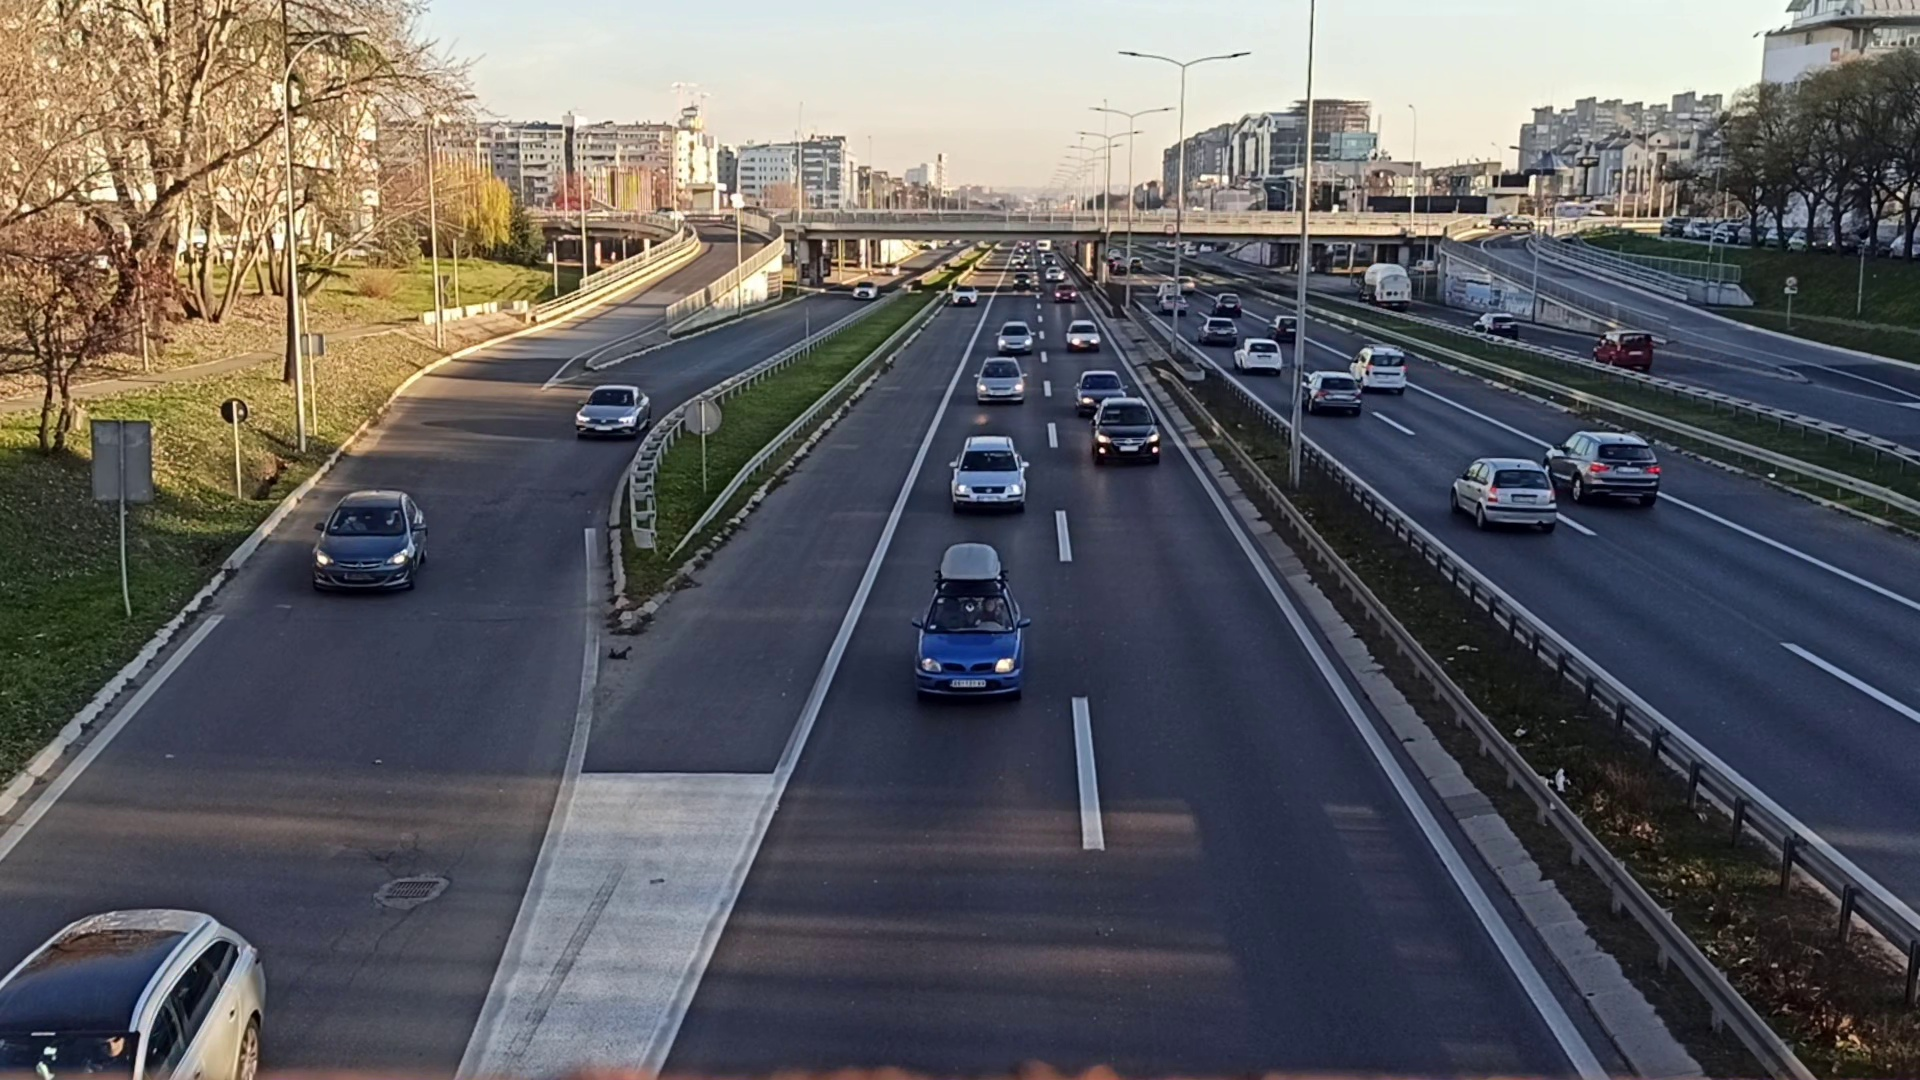car: (915, 545, 1029, 702), (311, 485, 430, 597), (1545, 430, 1660, 512), (1451, 455, 1553, 530), (949, 434, 1029, 509), (1088, 400, 1160, 465), (578, 384, 651, 436), (1300, 363, 1360, 418), (1350, 342, 1408, 397), (973, 355, 1027, 404), (1077, 368, 1126, 411), (1233, 336, 1282, 372), (996, 319, 1033, 355), (1065, 318, 1100, 348), (1196, 316, 1234, 343)
